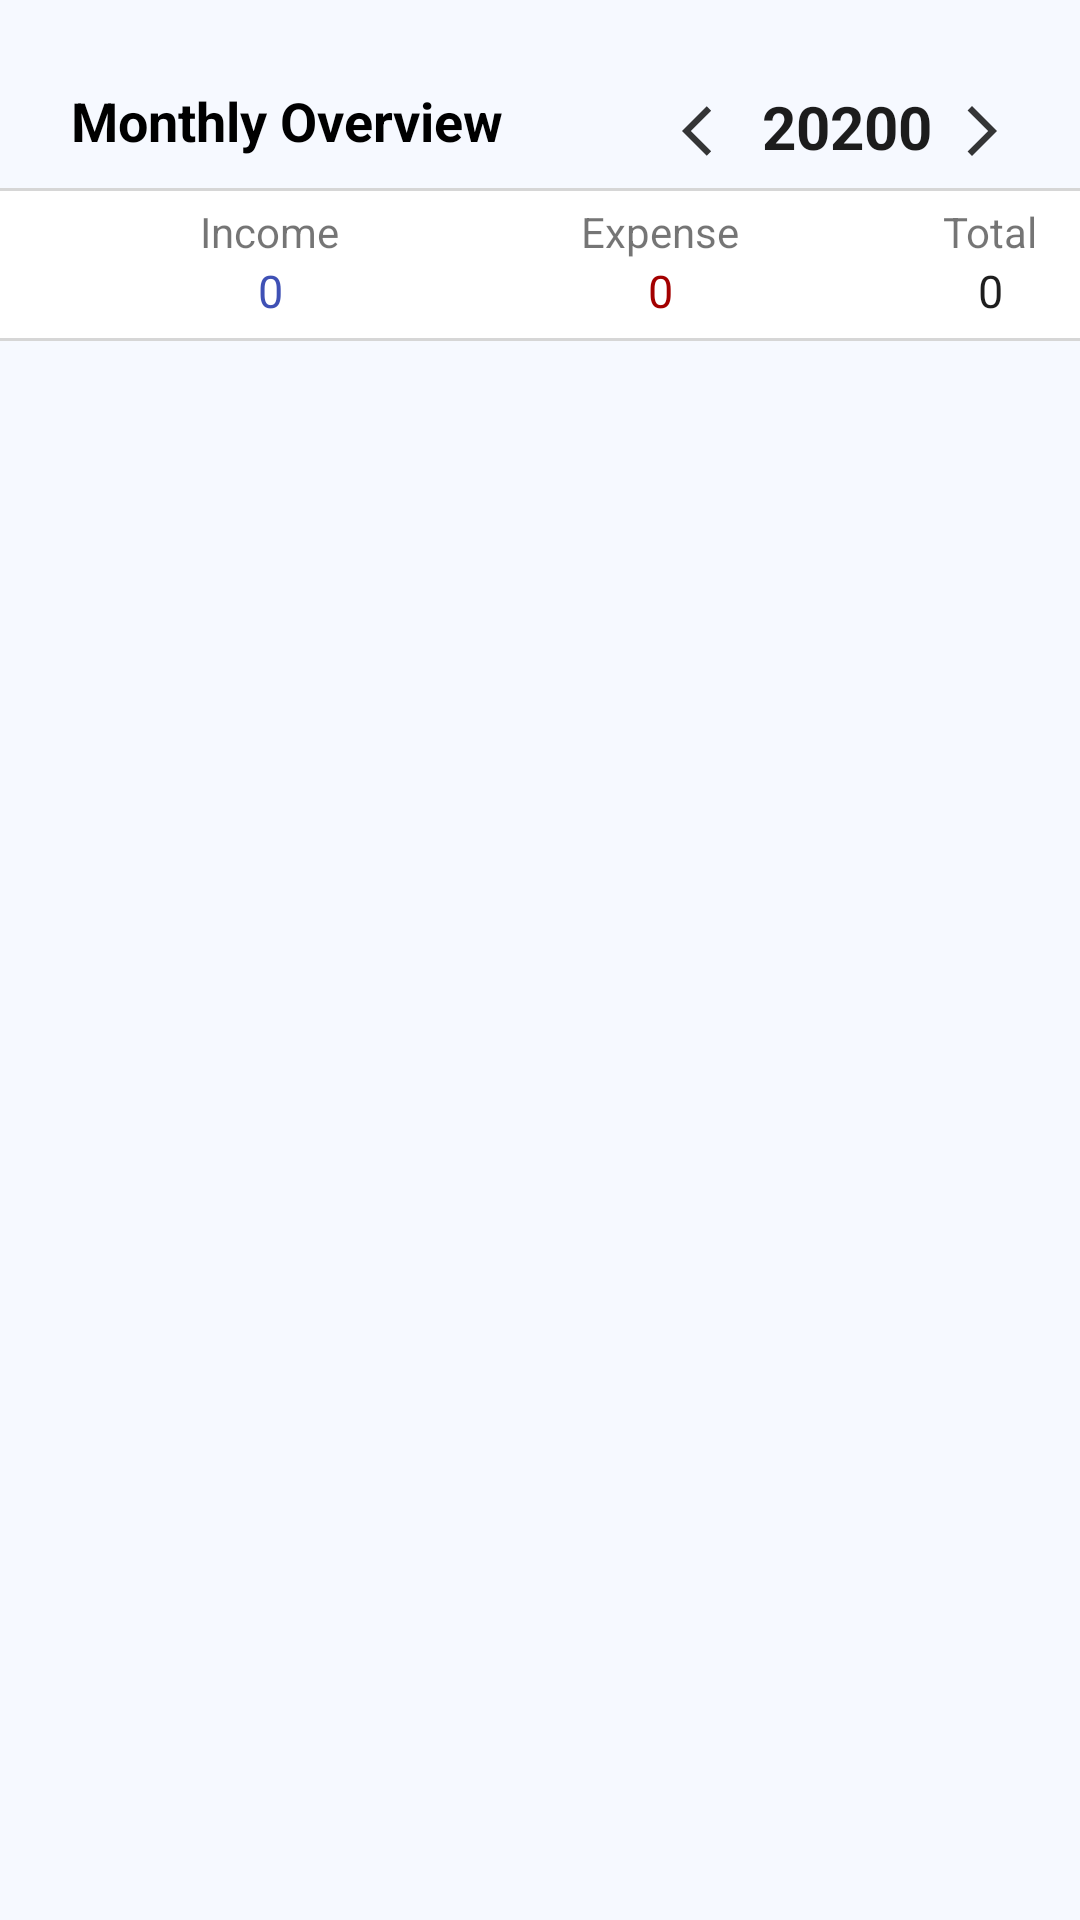

Locate icon controls on the screen. Image size 1080px×1920px, boxes as (x1, y1, x2, y2).
arrow back: (682, 106, 711, 156)
arrow forward: (967, 106, 997, 156)
